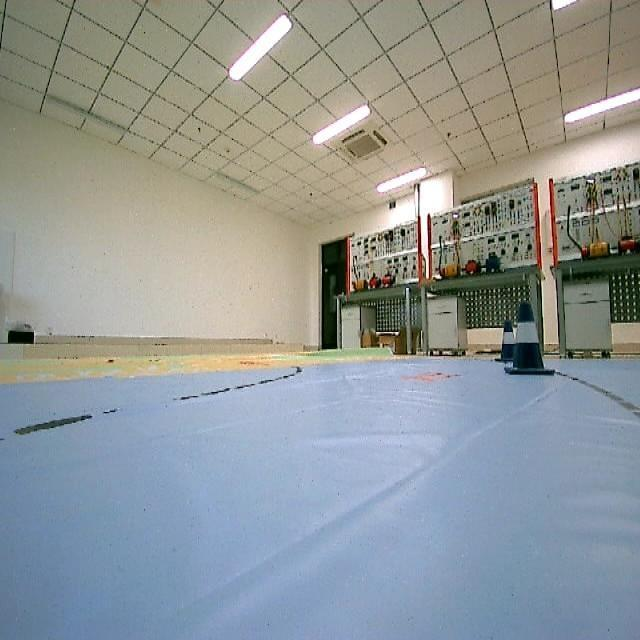obstacle: (498, 296, 551, 380)
